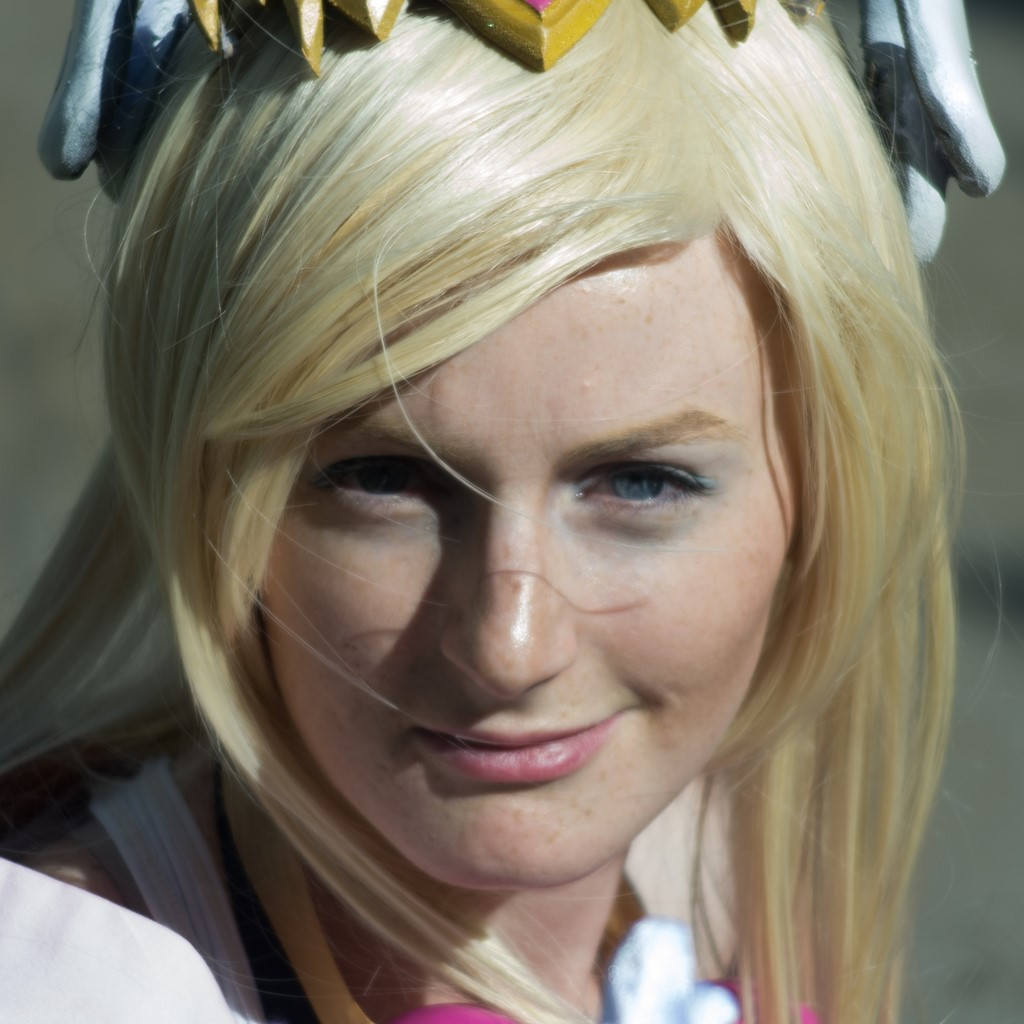sin_mascara: (188, 129, 818, 898)
